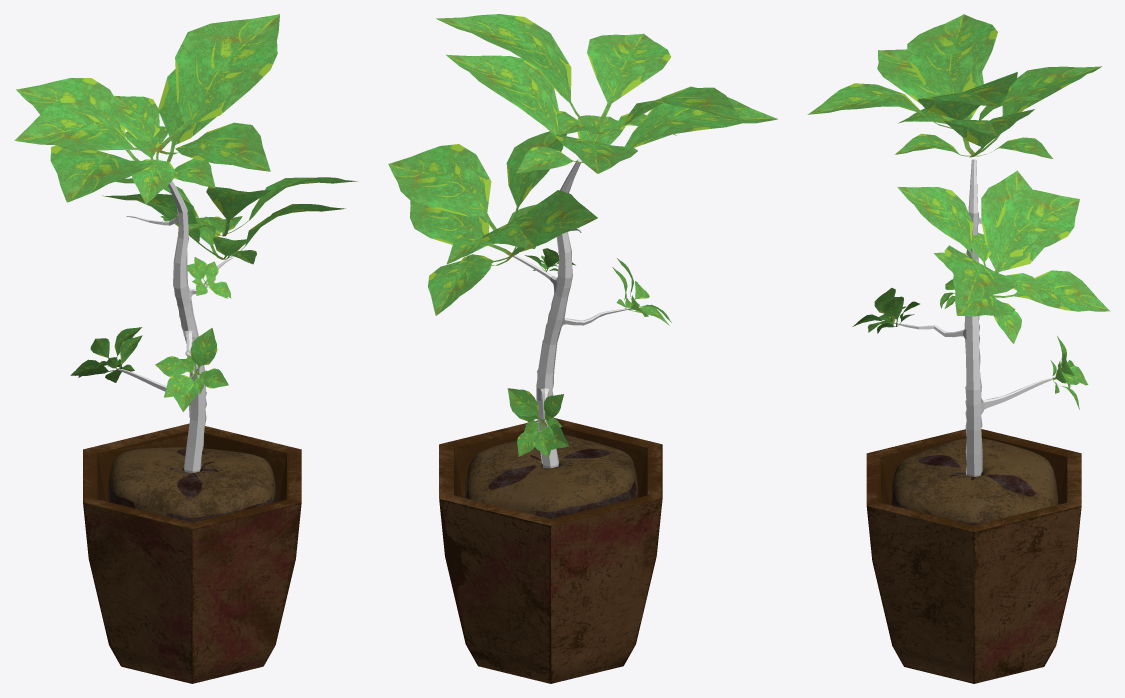
Rendered from pottedplantfull.fbx.
The picture shows the model from 3 angles, left to right: view 1: azimuth 30°, elevation 25°; view 2: azimuth 150°, elevation 25°; view 3: azimuth 270°, elevation 25°; orthographic projection. The views are drawn at different scales.
Visible parts, largest first — view 1: pot:pot_low, leavesfor_low, dirt:dirt_low, stem:stem_low; view 2: leavesfor_low, pot:pot_low, dirt:dirt_low, stem:stem_low; view 3: pot:pot_low, leavesfor_low, dirt:dirt_low, stem:stem_low.
Part boxes in pixels (box(x1,y1,x2,y2)): pot:pot_low: box(83, 423, 301, 683); leavesfor_low: box(14, 14, 358, 411); dirt:dirt_low: box(108, 447, 276, 522); stem:stem_low: box(117, 181, 233, 472); leavesfor_low: box(388, 14, 777, 457); pot:pot_low: box(439, 418, 662, 683); dirt:dirt_low: box(465, 435, 637, 518); stem:stem_low: box(512, 159, 630, 468); pot:pot_low: box(866, 429, 1081, 683); leavesfor_low: box(807, 14, 1110, 409); dirt:dirt_low: box(891, 438, 1058, 525); stem:stem_low: box(893, 159, 1053, 476).
Size of the model in its own units: 4.26 by 7.06 by 3.28.
